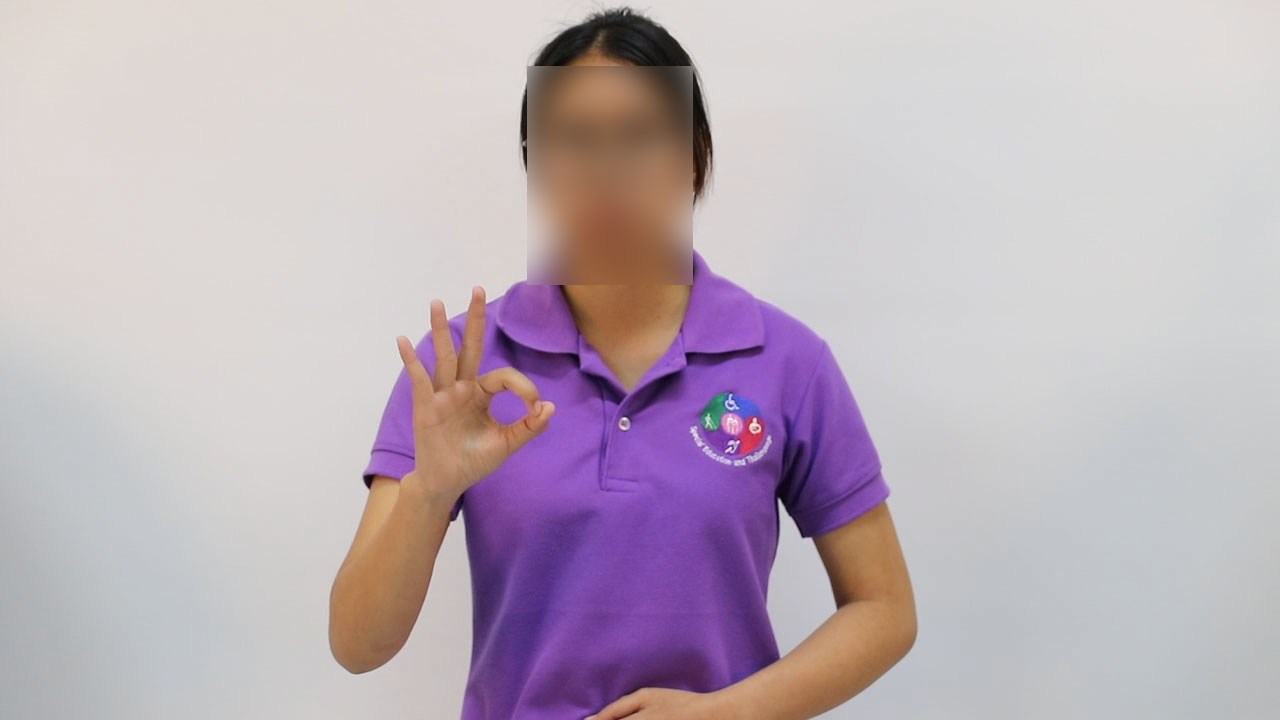for: (389, 273, 560, 499)
